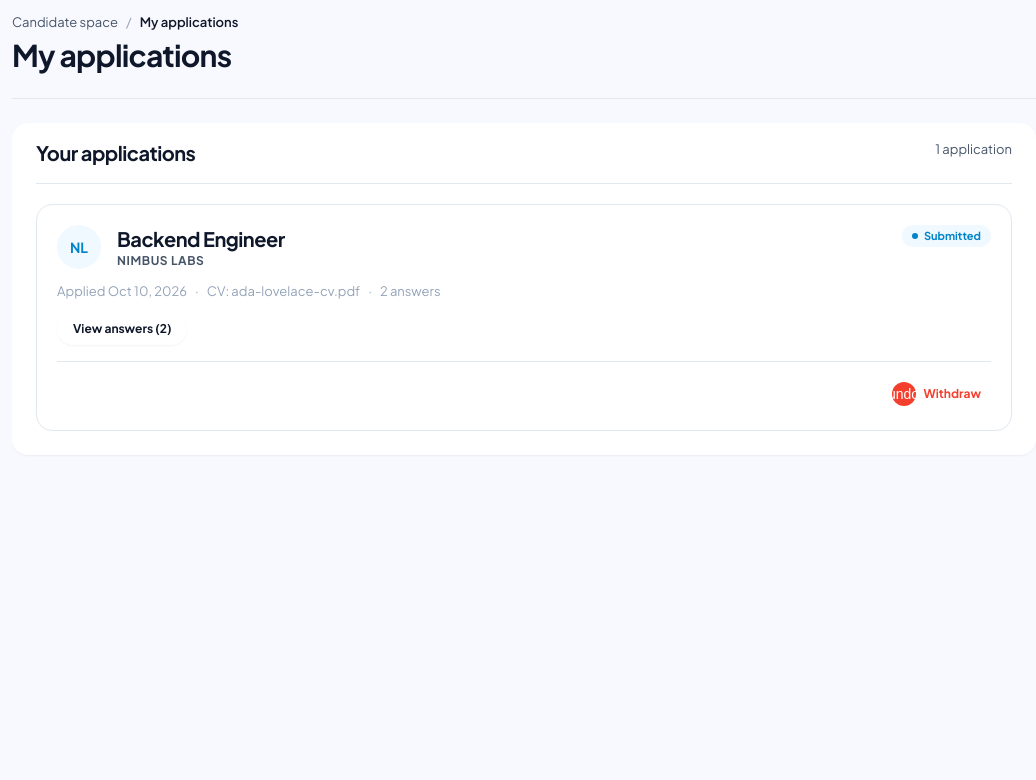
Test: ApplicationsView › keeps every answer behind an accessible disclosure
Check: the text "Why this role?" is not shown
Click the button "View answers (2)".
click(122, 329)  # box [57,313,188,345]
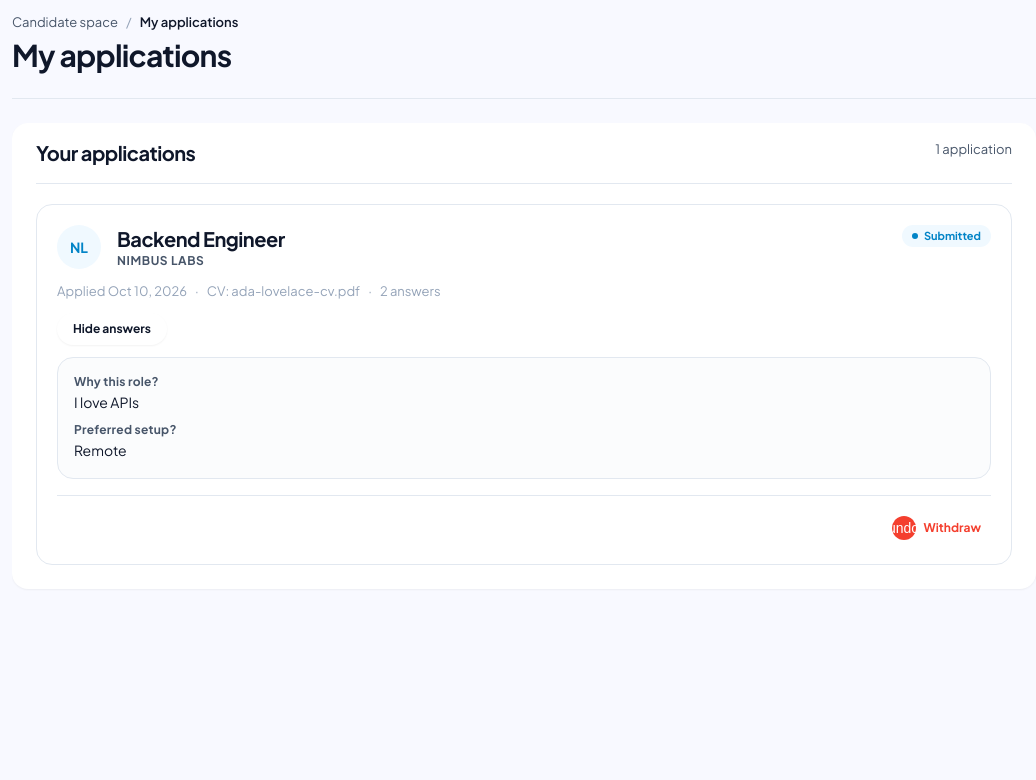
Check: the button named "View answers (2)" is expanded
Check: the text "Why this role?" is shown, box [74,374,159,389]
Check: the text "I love APIs" is shown, box [74,393,139,411]
Click the button "Hide answers".
click(112, 329)  # box [57,313,167,345]
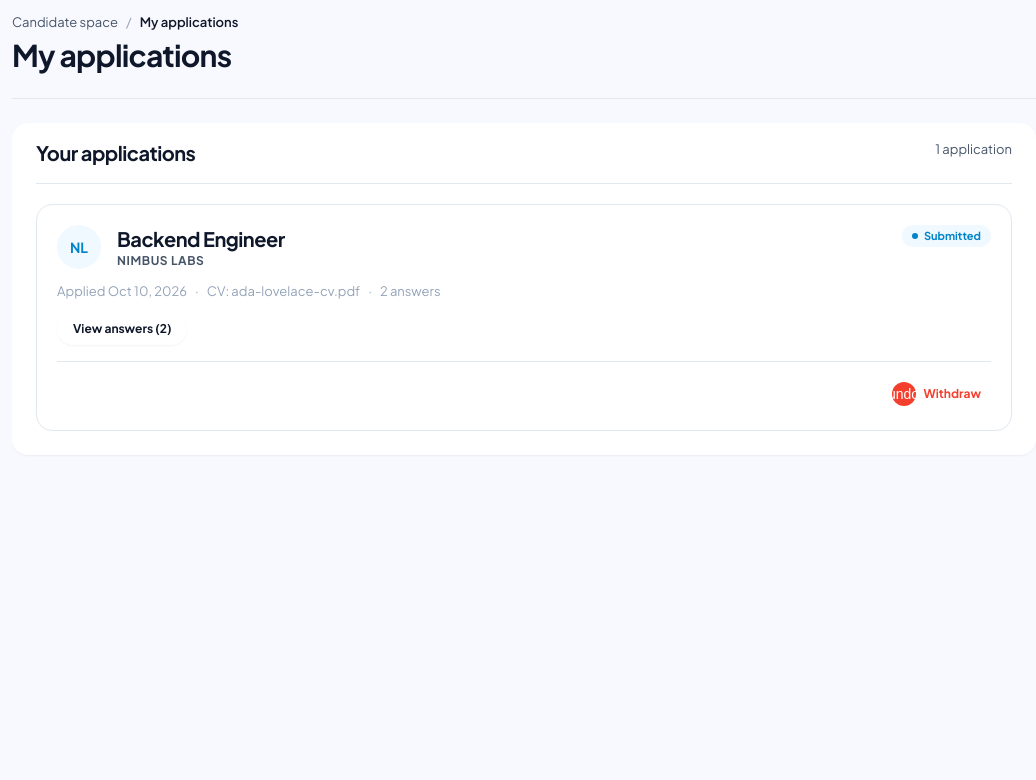
Check: the text "Why this role?" is gone
Check: the button "View answers (2)" is collapsed, box [57,313,188,345]
